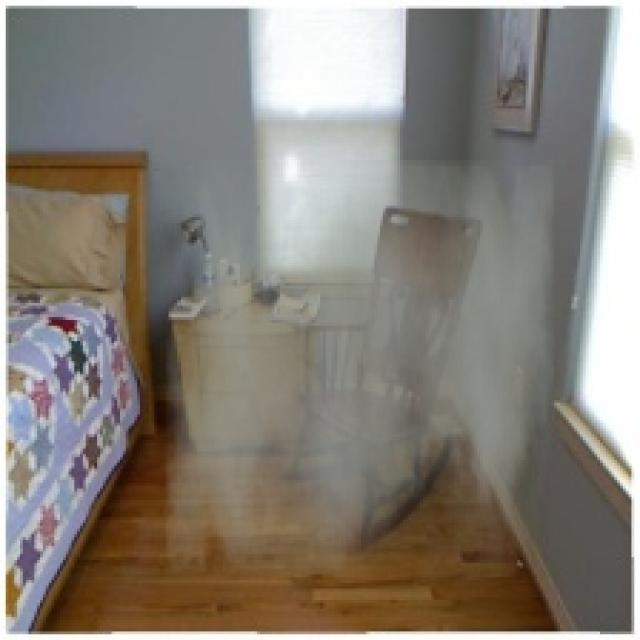smoke: (166, 160, 554, 577)
